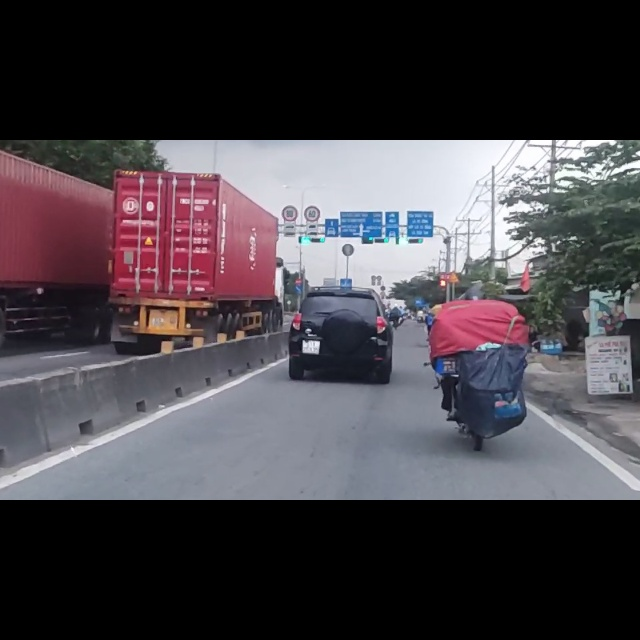bien_hieu_lenh: (303, 115, 321, 147), (282, 115, 298, 145), (295, 247, 301, 258), (295, 260, 301, 270)
